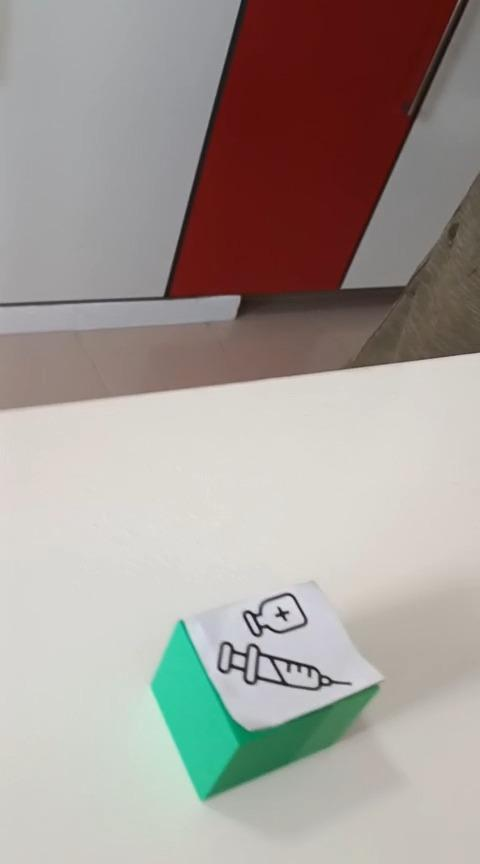antiseptic cream: (149, 578, 385, 801)
